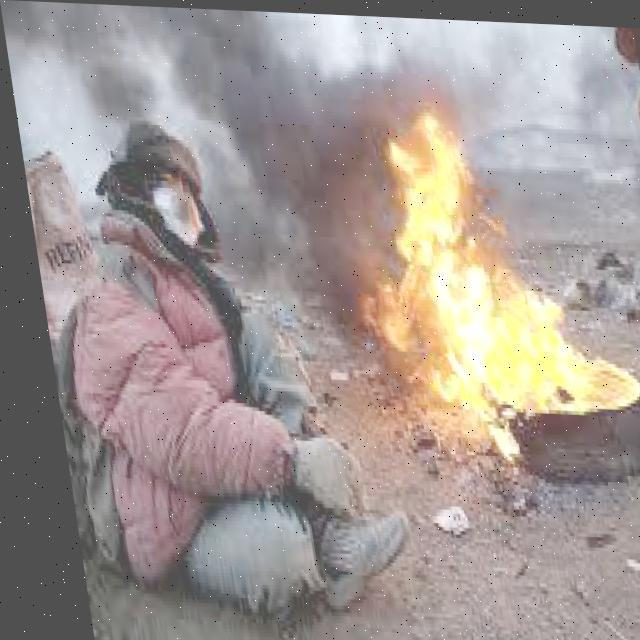Fire: (333, 98, 639, 441)
